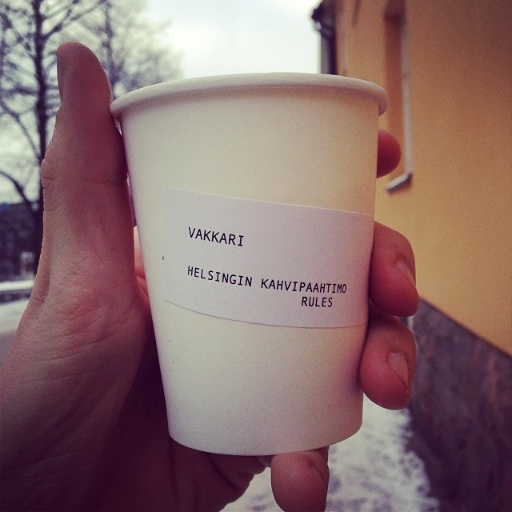hand: (0, 40, 422, 511)
